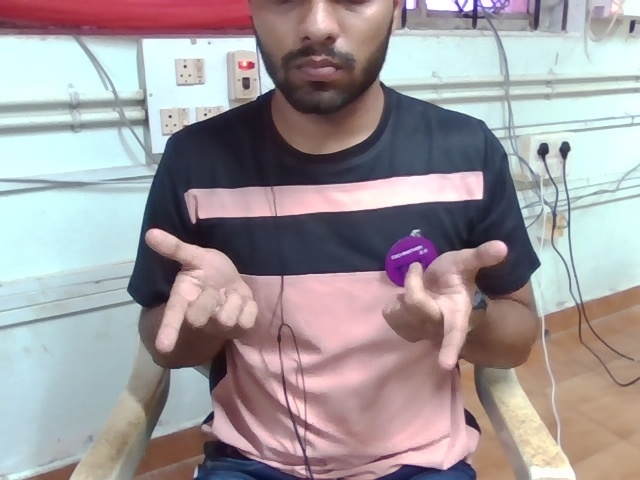go: (122, 221, 520, 387)
